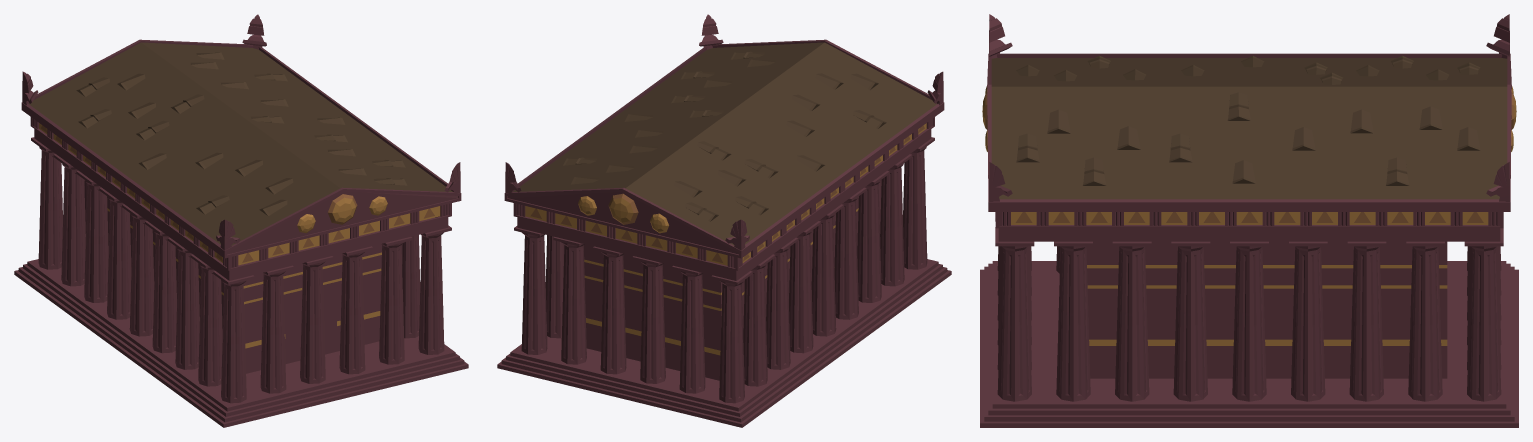
Rendered from SM_Temple_Periptero_Empire.fbx.
3 renders of one model, left to right at view 1: azimuth 30°, elevation 25°; view 2: azimuth 150°, elevation 25°; view 3: azimuth 270°, elevation 25°, orthographic. The views are drawn at different scales.
Visible parts, largest first — view 1: SM_Ancient_Temple_Periptero_Empire; view 2: SM_Ancient_Temple_Periptero_Empire; view 3: SM_Ancient_Temple_Periptero_Empire.
Part boxes in pixels (left/top/right/bottom): SM_Ancient_Temple_Periptero_Empire: left=14, top=14, right=468, bottom=427; SM_Ancient_Temple_Periptero_Empire: left=497, top=14, right=951, bottom=427; SM_Ancient_Temple_Periptero_Empire: left=980, top=14, right=1518, bottom=427.
Bounding box in the file's own units: 18.61 × 15.03 × 27.56.
